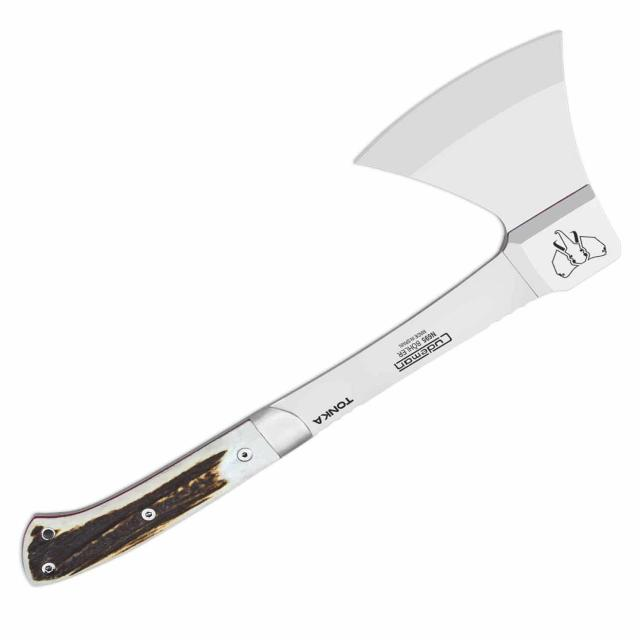Kapak: (29, 23, 640, 525)
